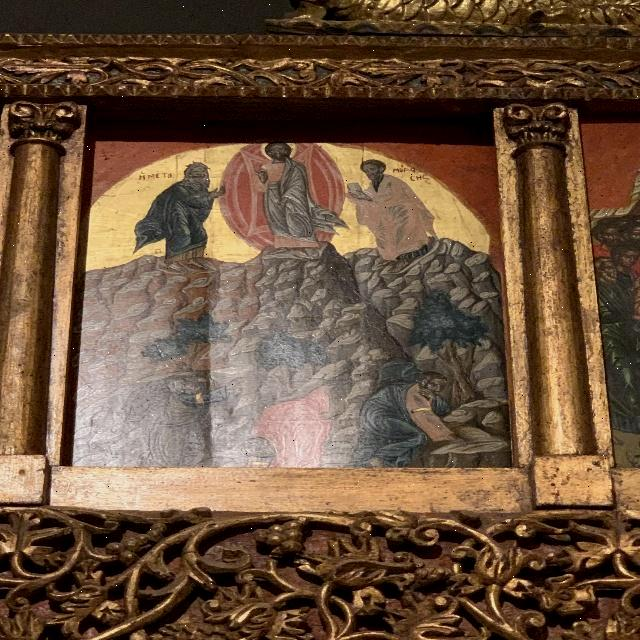aura: (258, 140, 298, 166)
christ: (221, 139, 335, 263)
